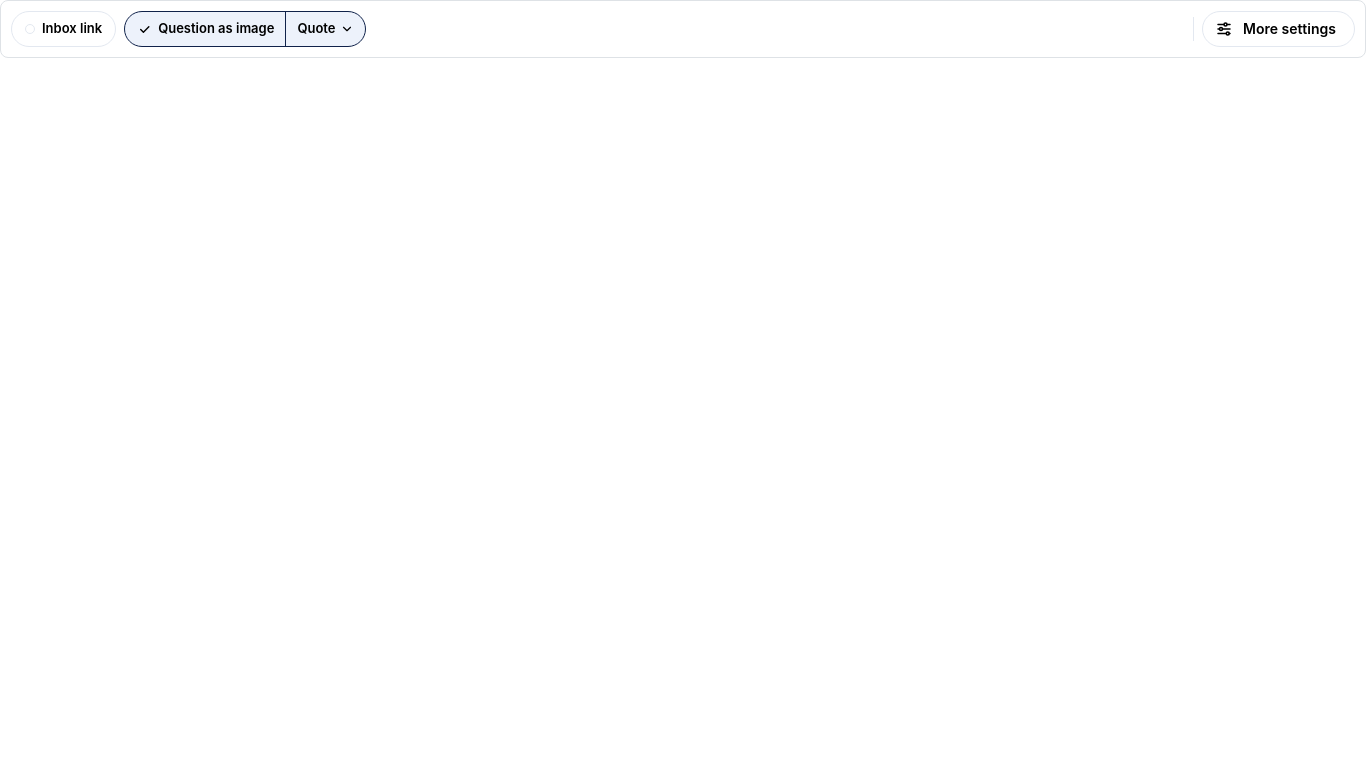
MessagePreferencesBar › saves the picked theme and closes the picker
The width and height of the screenshot is (1366, 768).
Step 1. Click the button named "Image theme" → coordinates (326, 29), box left=286, top=12, right=366, bottom=46
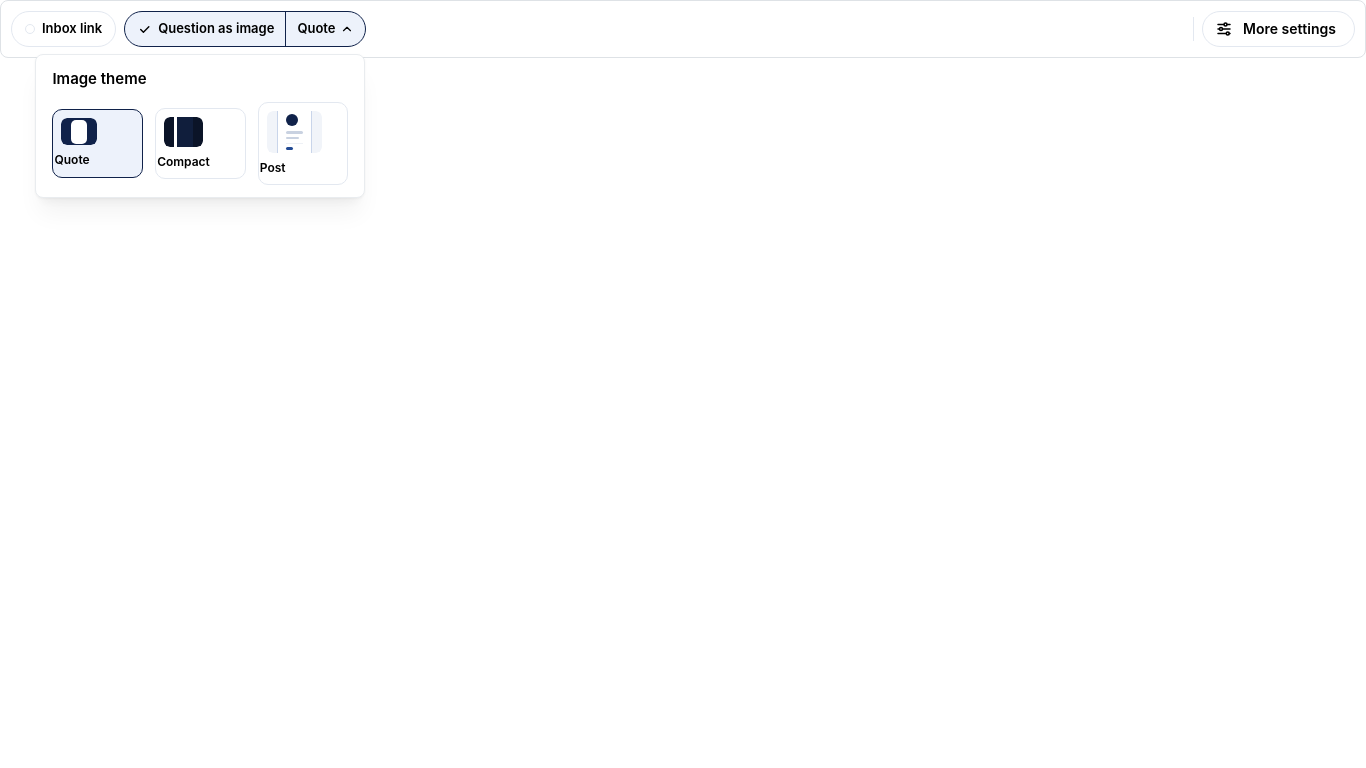
Step 2. Click the button "Compact" → coordinates (200, 144), box left=155, top=108, right=246, bottom=179
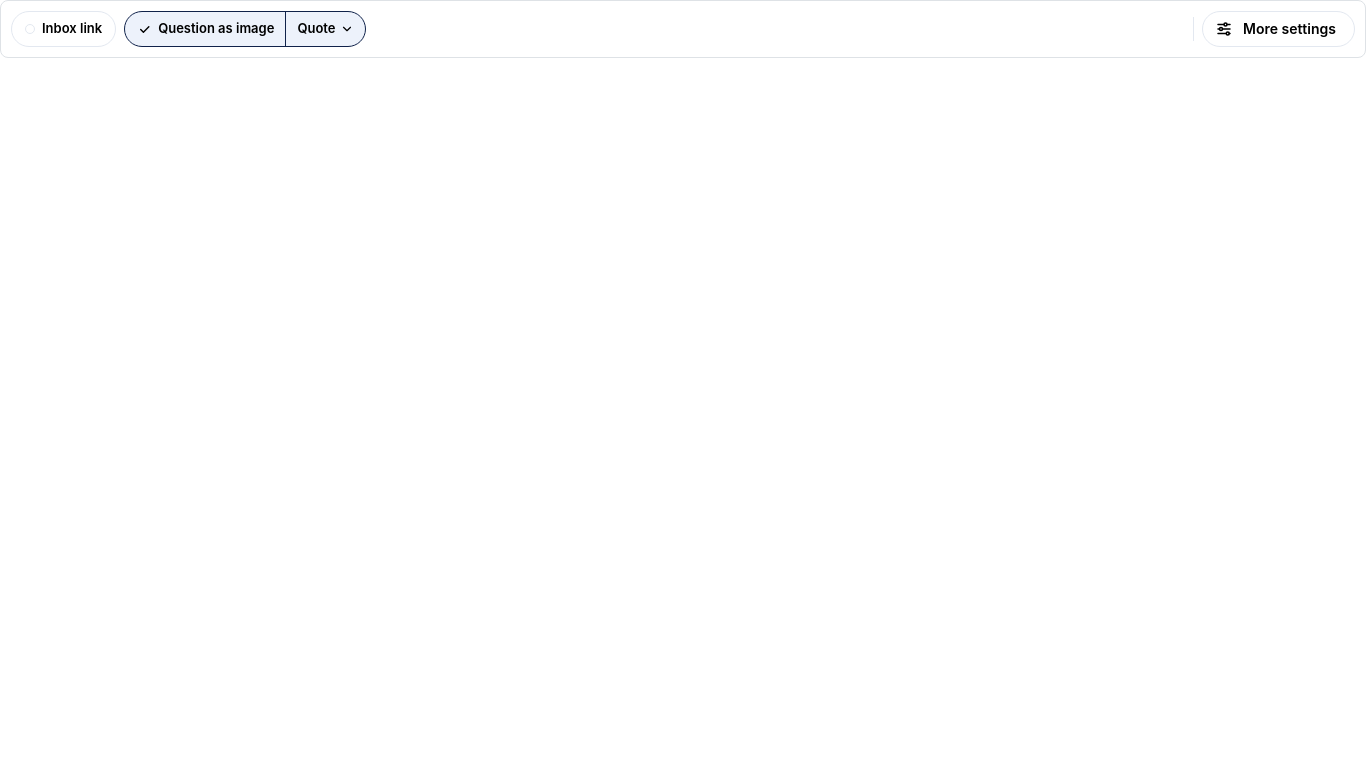
expect the button "Compact" is gone: met
